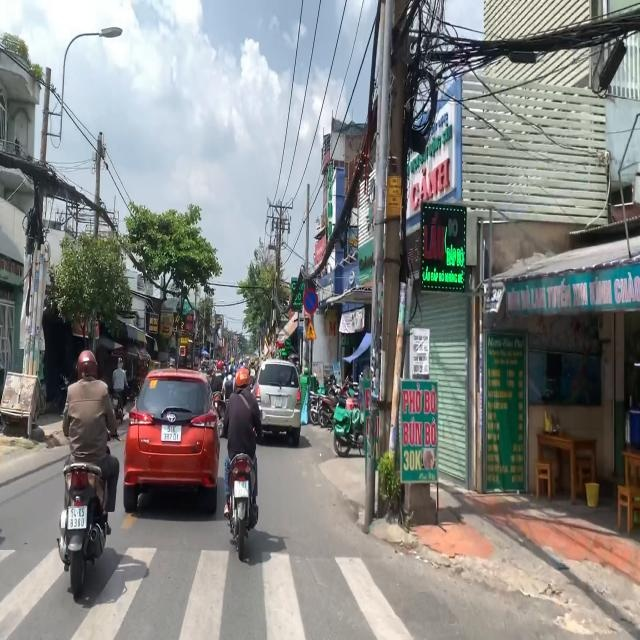bien_cam: (303, 288, 318, 314), (305, 318, 317, 339)
